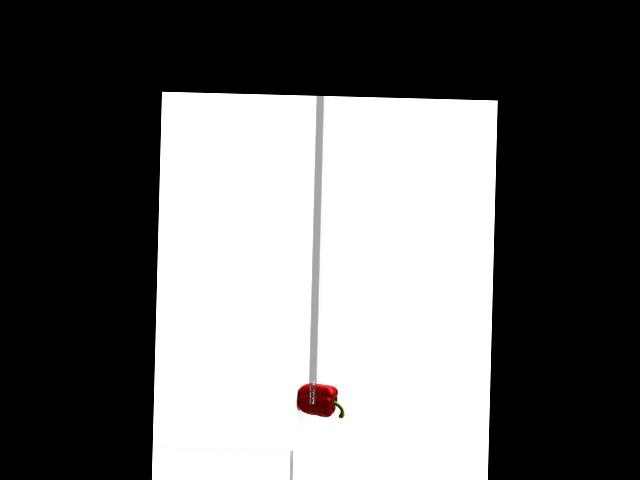bell_pepper: (298, 380, 347, 422)
